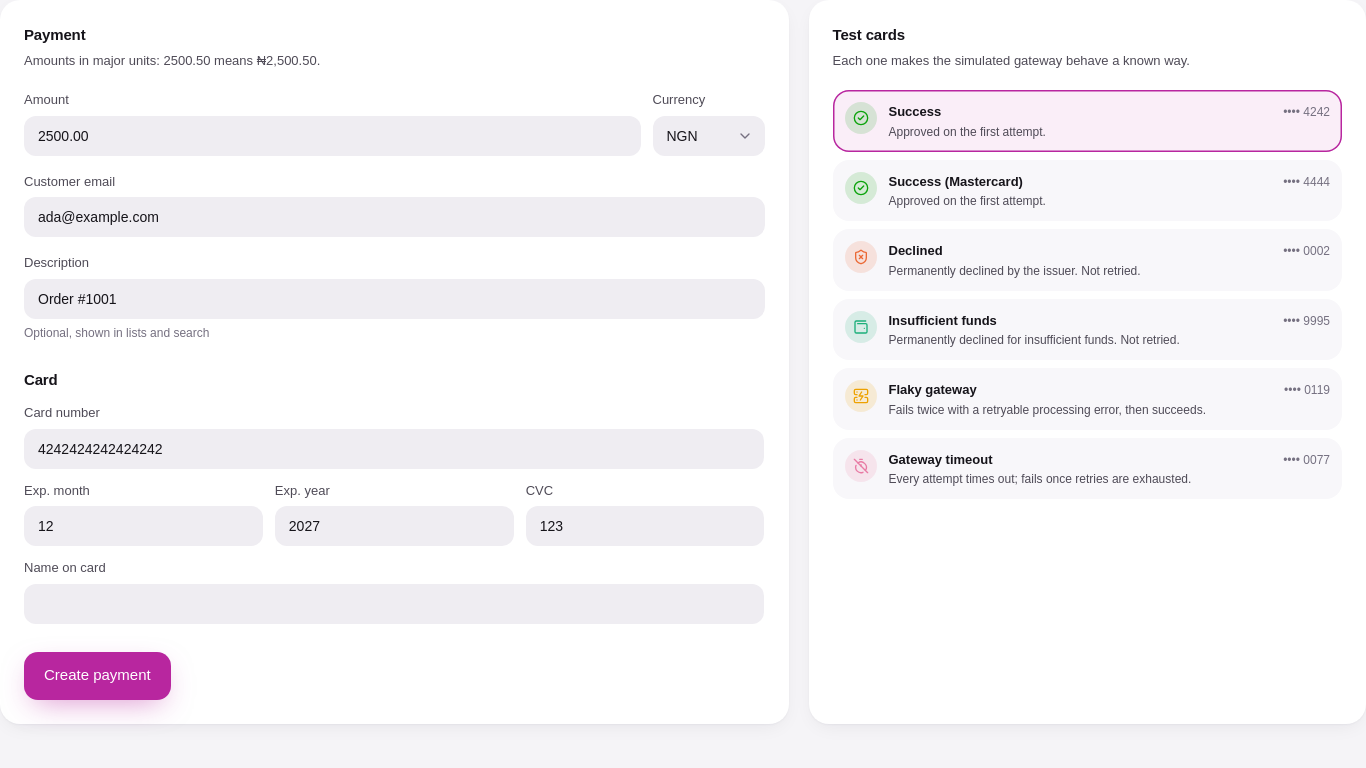
CreatePaymentForm › validates on submit with the API rules and sends nothing when invalid
Replace the text in the field labelled "Card number" with "4242424242424241": (394, 448) x1=24 y1=428 x2=764 y2=468
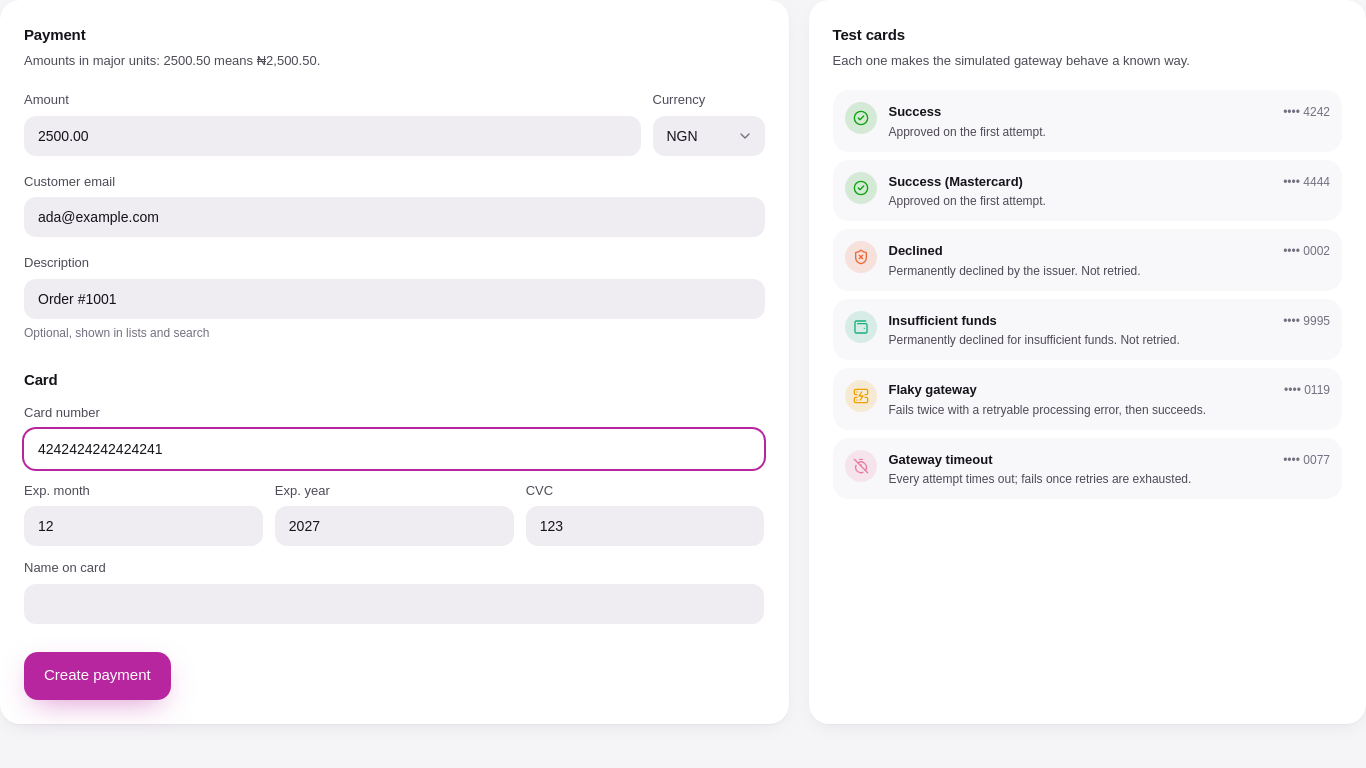
Click the button "Create payment": (97, 676) x1=24 y1=652 x2=171 y2=700
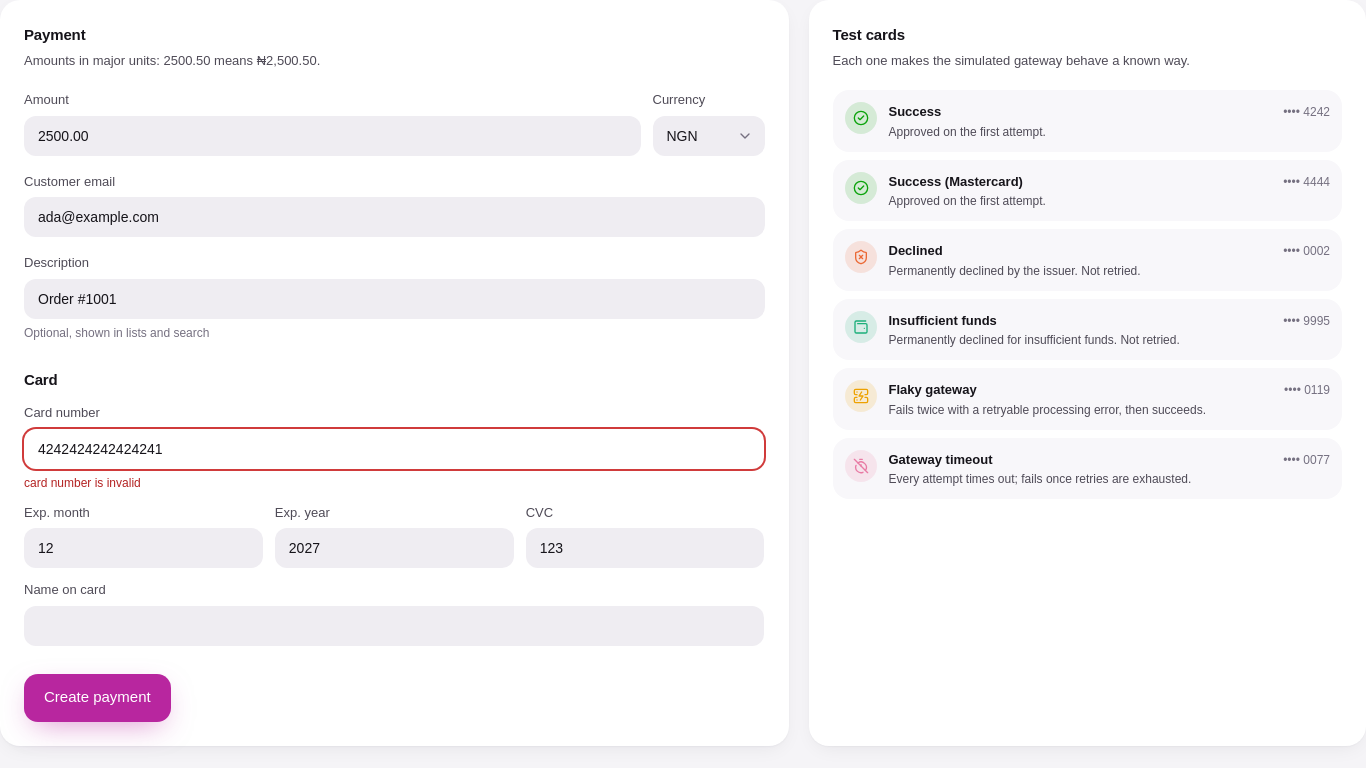
expect the text "card number is invalid" is shown: met, box x1=24 y1=476 x2=141 y2=490
